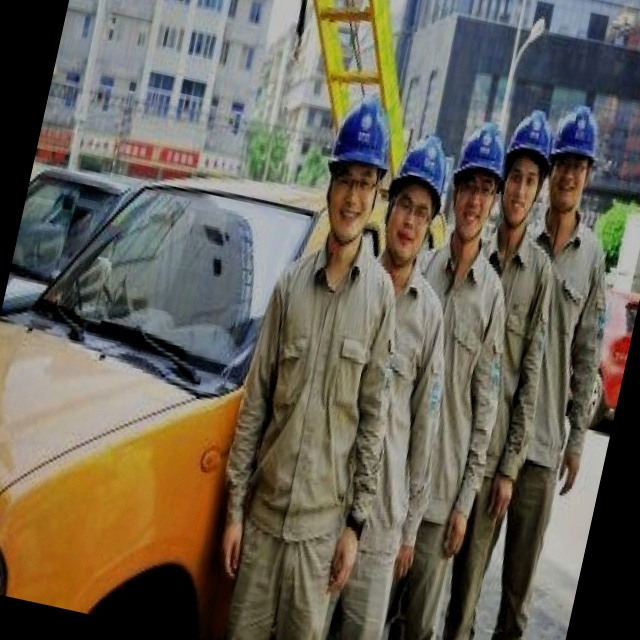Con_Casco: (311, 92, 405, 245), (374, 131, 455, 273)
Sin_Chaleco: (220, 241, 411, 539)
